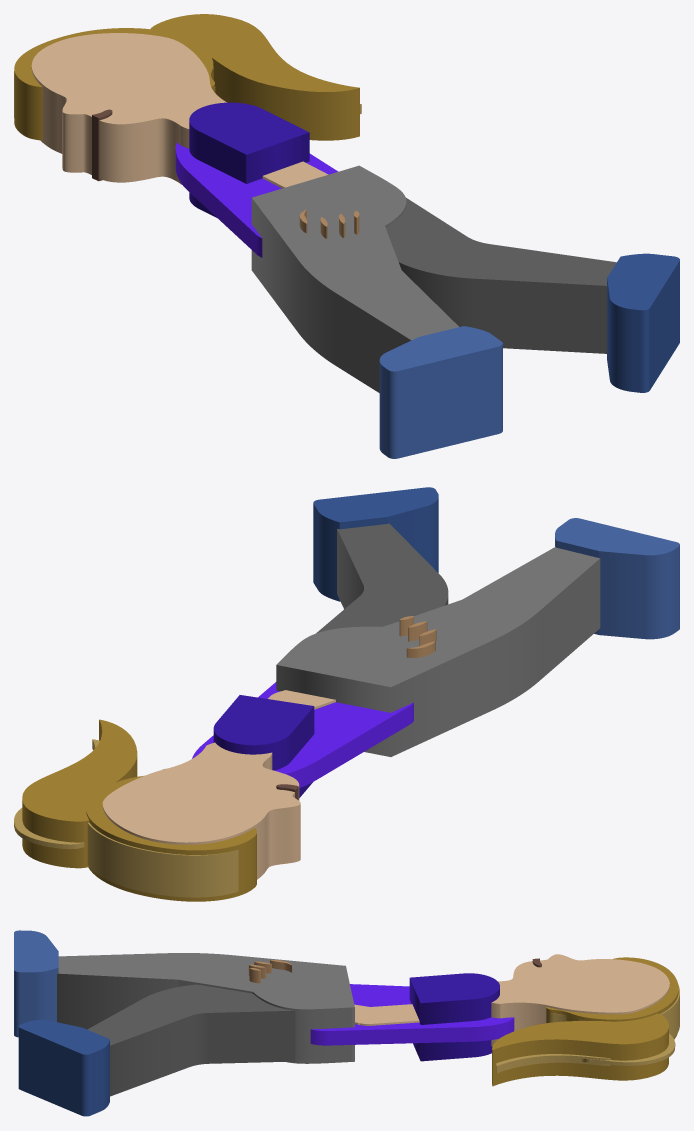
The model's file is emoji_u1f6b6_1f3fc_200d_2640.glb.
3 views of the same model, one above another, from view 1: azimuth 30°, elevation 25°; view 2: azimuth 150°, elevation 25°; view 3: azimuth 270°, elevation 25° (orthographic). The views are drawn at different scales.
Parts seen in each view (by area): view 1: emoji_u1f6b6_1f3fc_200d_2640; view 2: emoji_u1f6b6_1f3fc_200d_2640; view 3: emoji_u1f6b6_1f3fc_200d_2640.
Part boxes in pixels (x1,y1,x2,y2): emoji_u1f6b6_1f3fc_200d_2640: (14,14,679,458); emoji_u1f6b6_1f3fc_200d_2640: (14,487,679,901); emoji_u1f6b6_1f3fc_200d_2640: (14,930,679,1116).
Size of the model in its own units: 0.0144 by 0.0044 by 0.0332.
